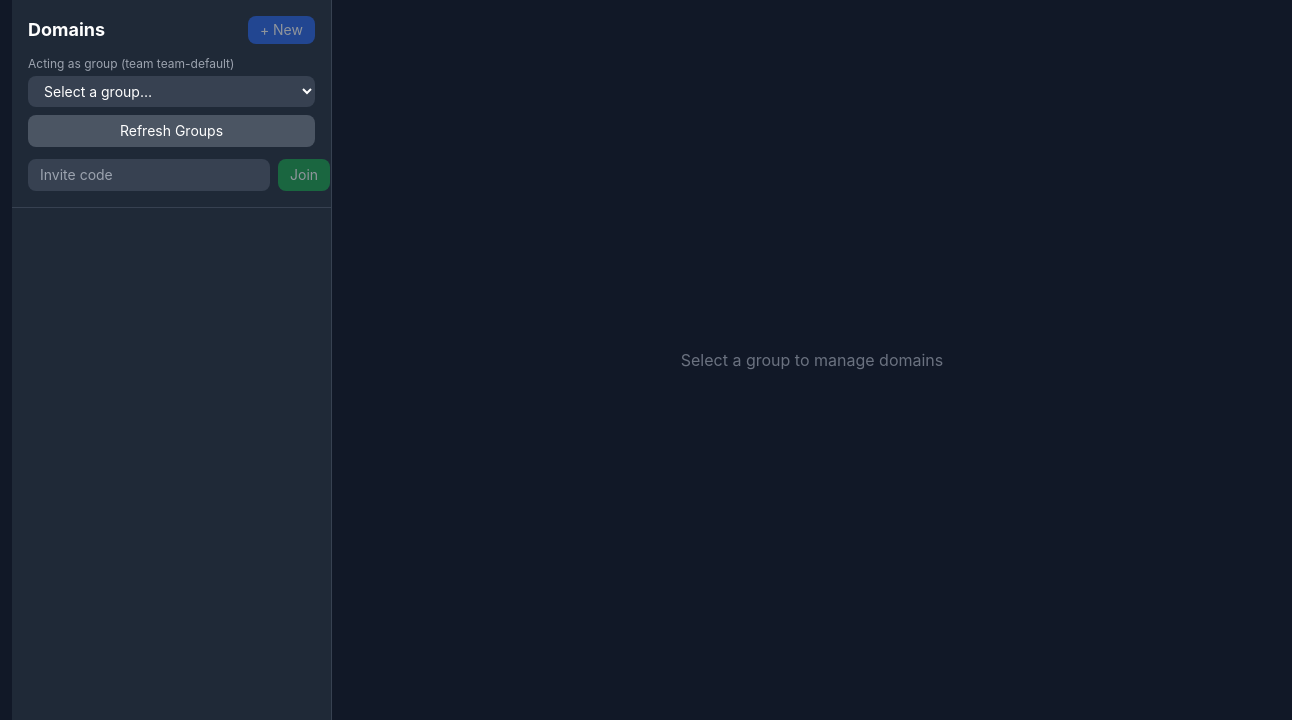
Scenario: Slice 5: DomainsPage › joins a domain with an invite code
Select "Alpha" in the dropdown at (172, 92), box [28, 76, 315, 107]
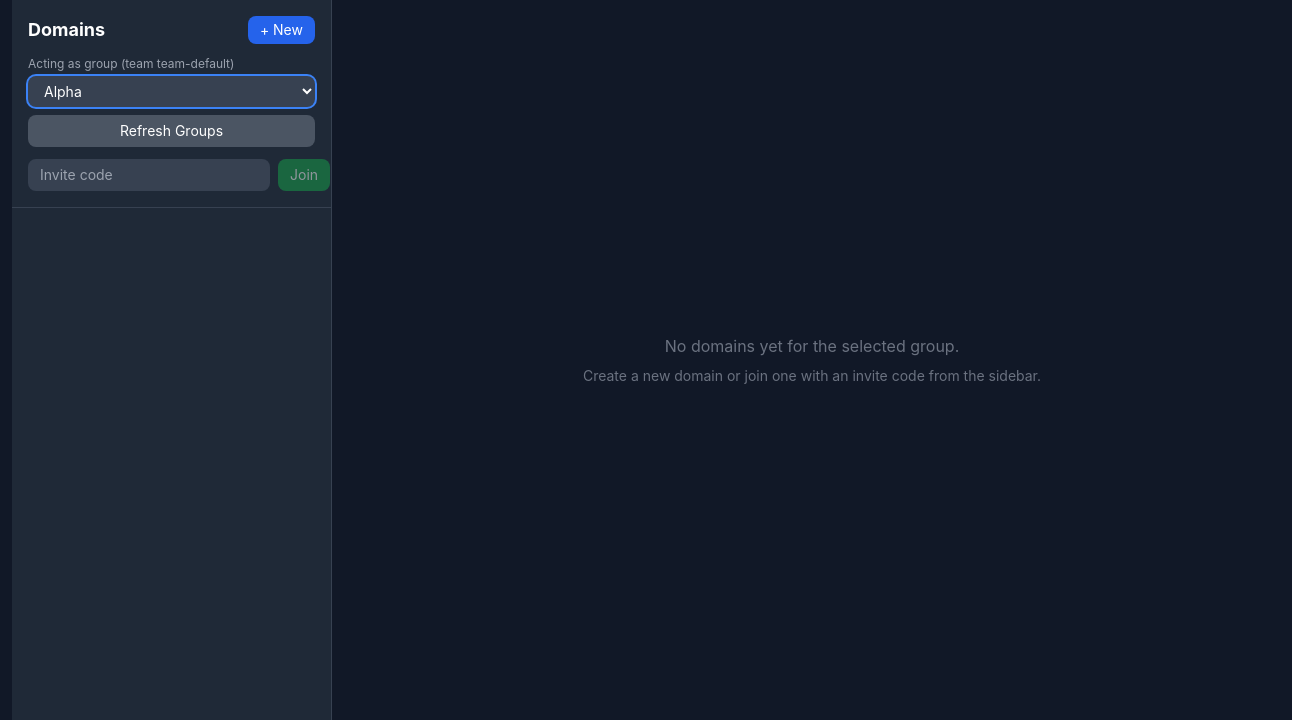
Type "INV123" into the field with placeholder "Invite code" at (149, 175), box [28, 159, 270, 191]
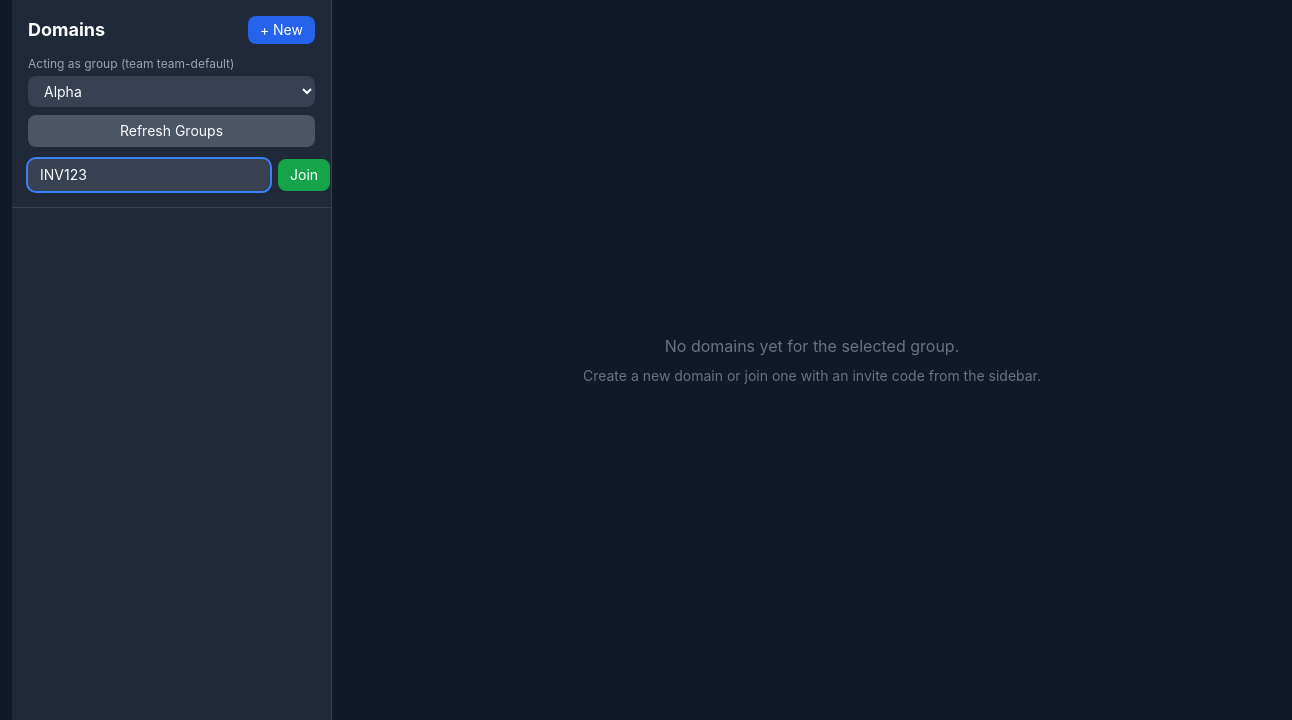
Click the button "Join" at (304, 175), box [278, 159, 330, 191]
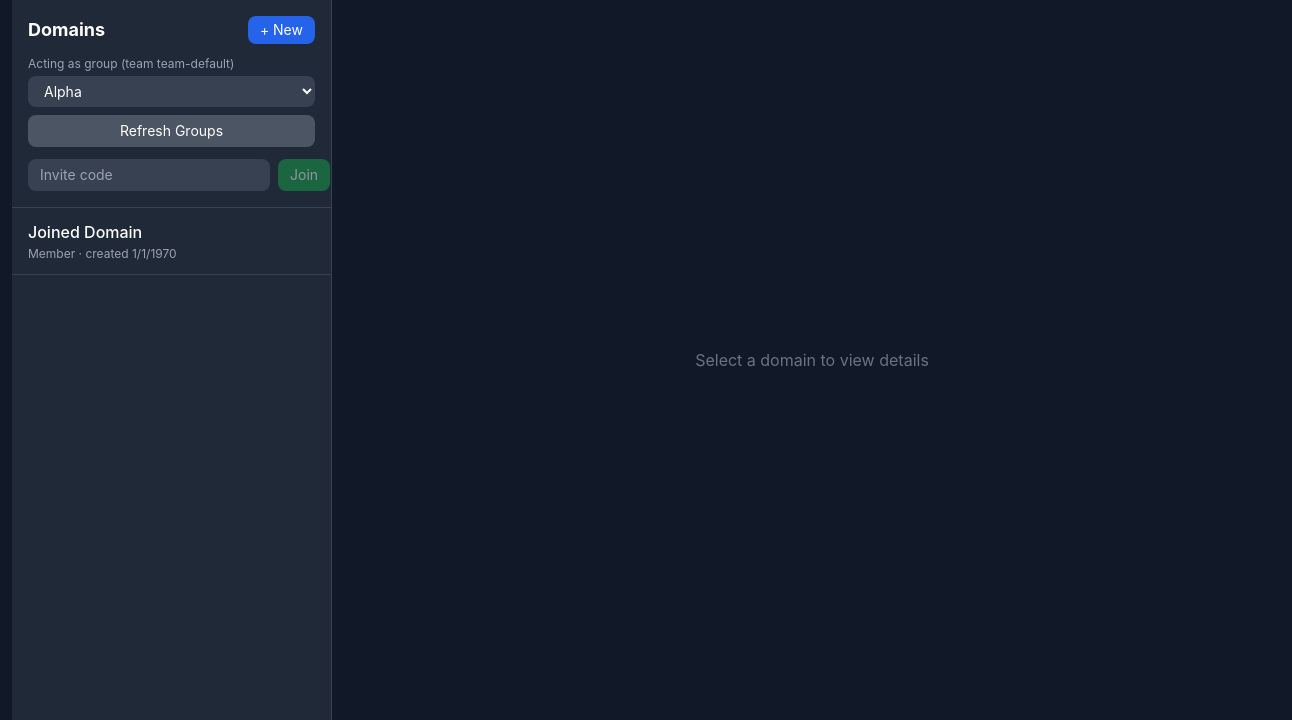
Check: the text "Joined Domain" is shown, box [28, 222, 142, 242]
